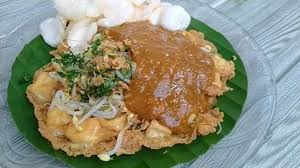Tahu telor: (26, 23, 236, 158)
